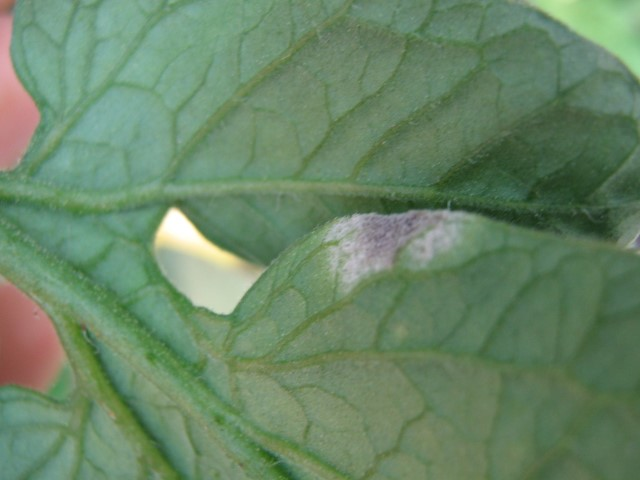cladosporium: (358, 211, 438, 268)
